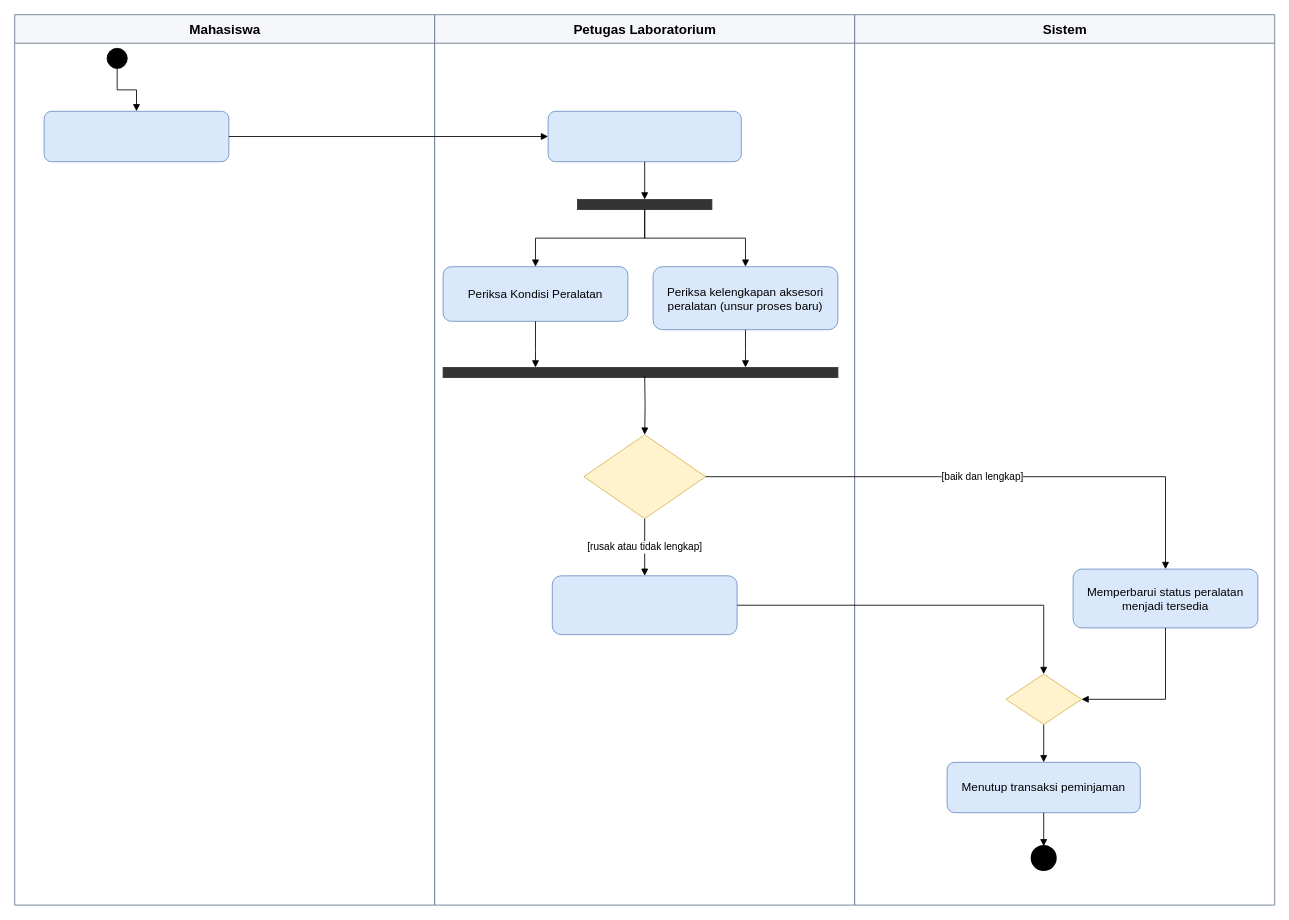
Image size: 1289x920. Some labels were removed from this diagram. The centre of each missing label's shape, as x and y in pixels:
"Catat Pengembalian Peralatan" belongs at point (644, 136).
"Kondisi peralatan baik dan lengkap?" belongs at point (644, 476).
"Mencatat kerusakan dan menjadwalkan perbaikan" belongs at point (644, 605).
"Menyerahkan peralatan yang dipinjam" belongs at point (136, 136).
